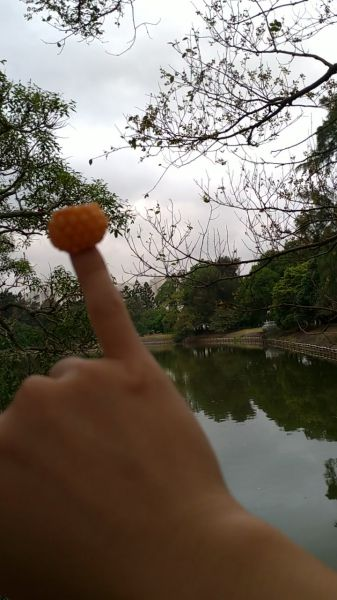eggs: (47, 203, 107, 253)
